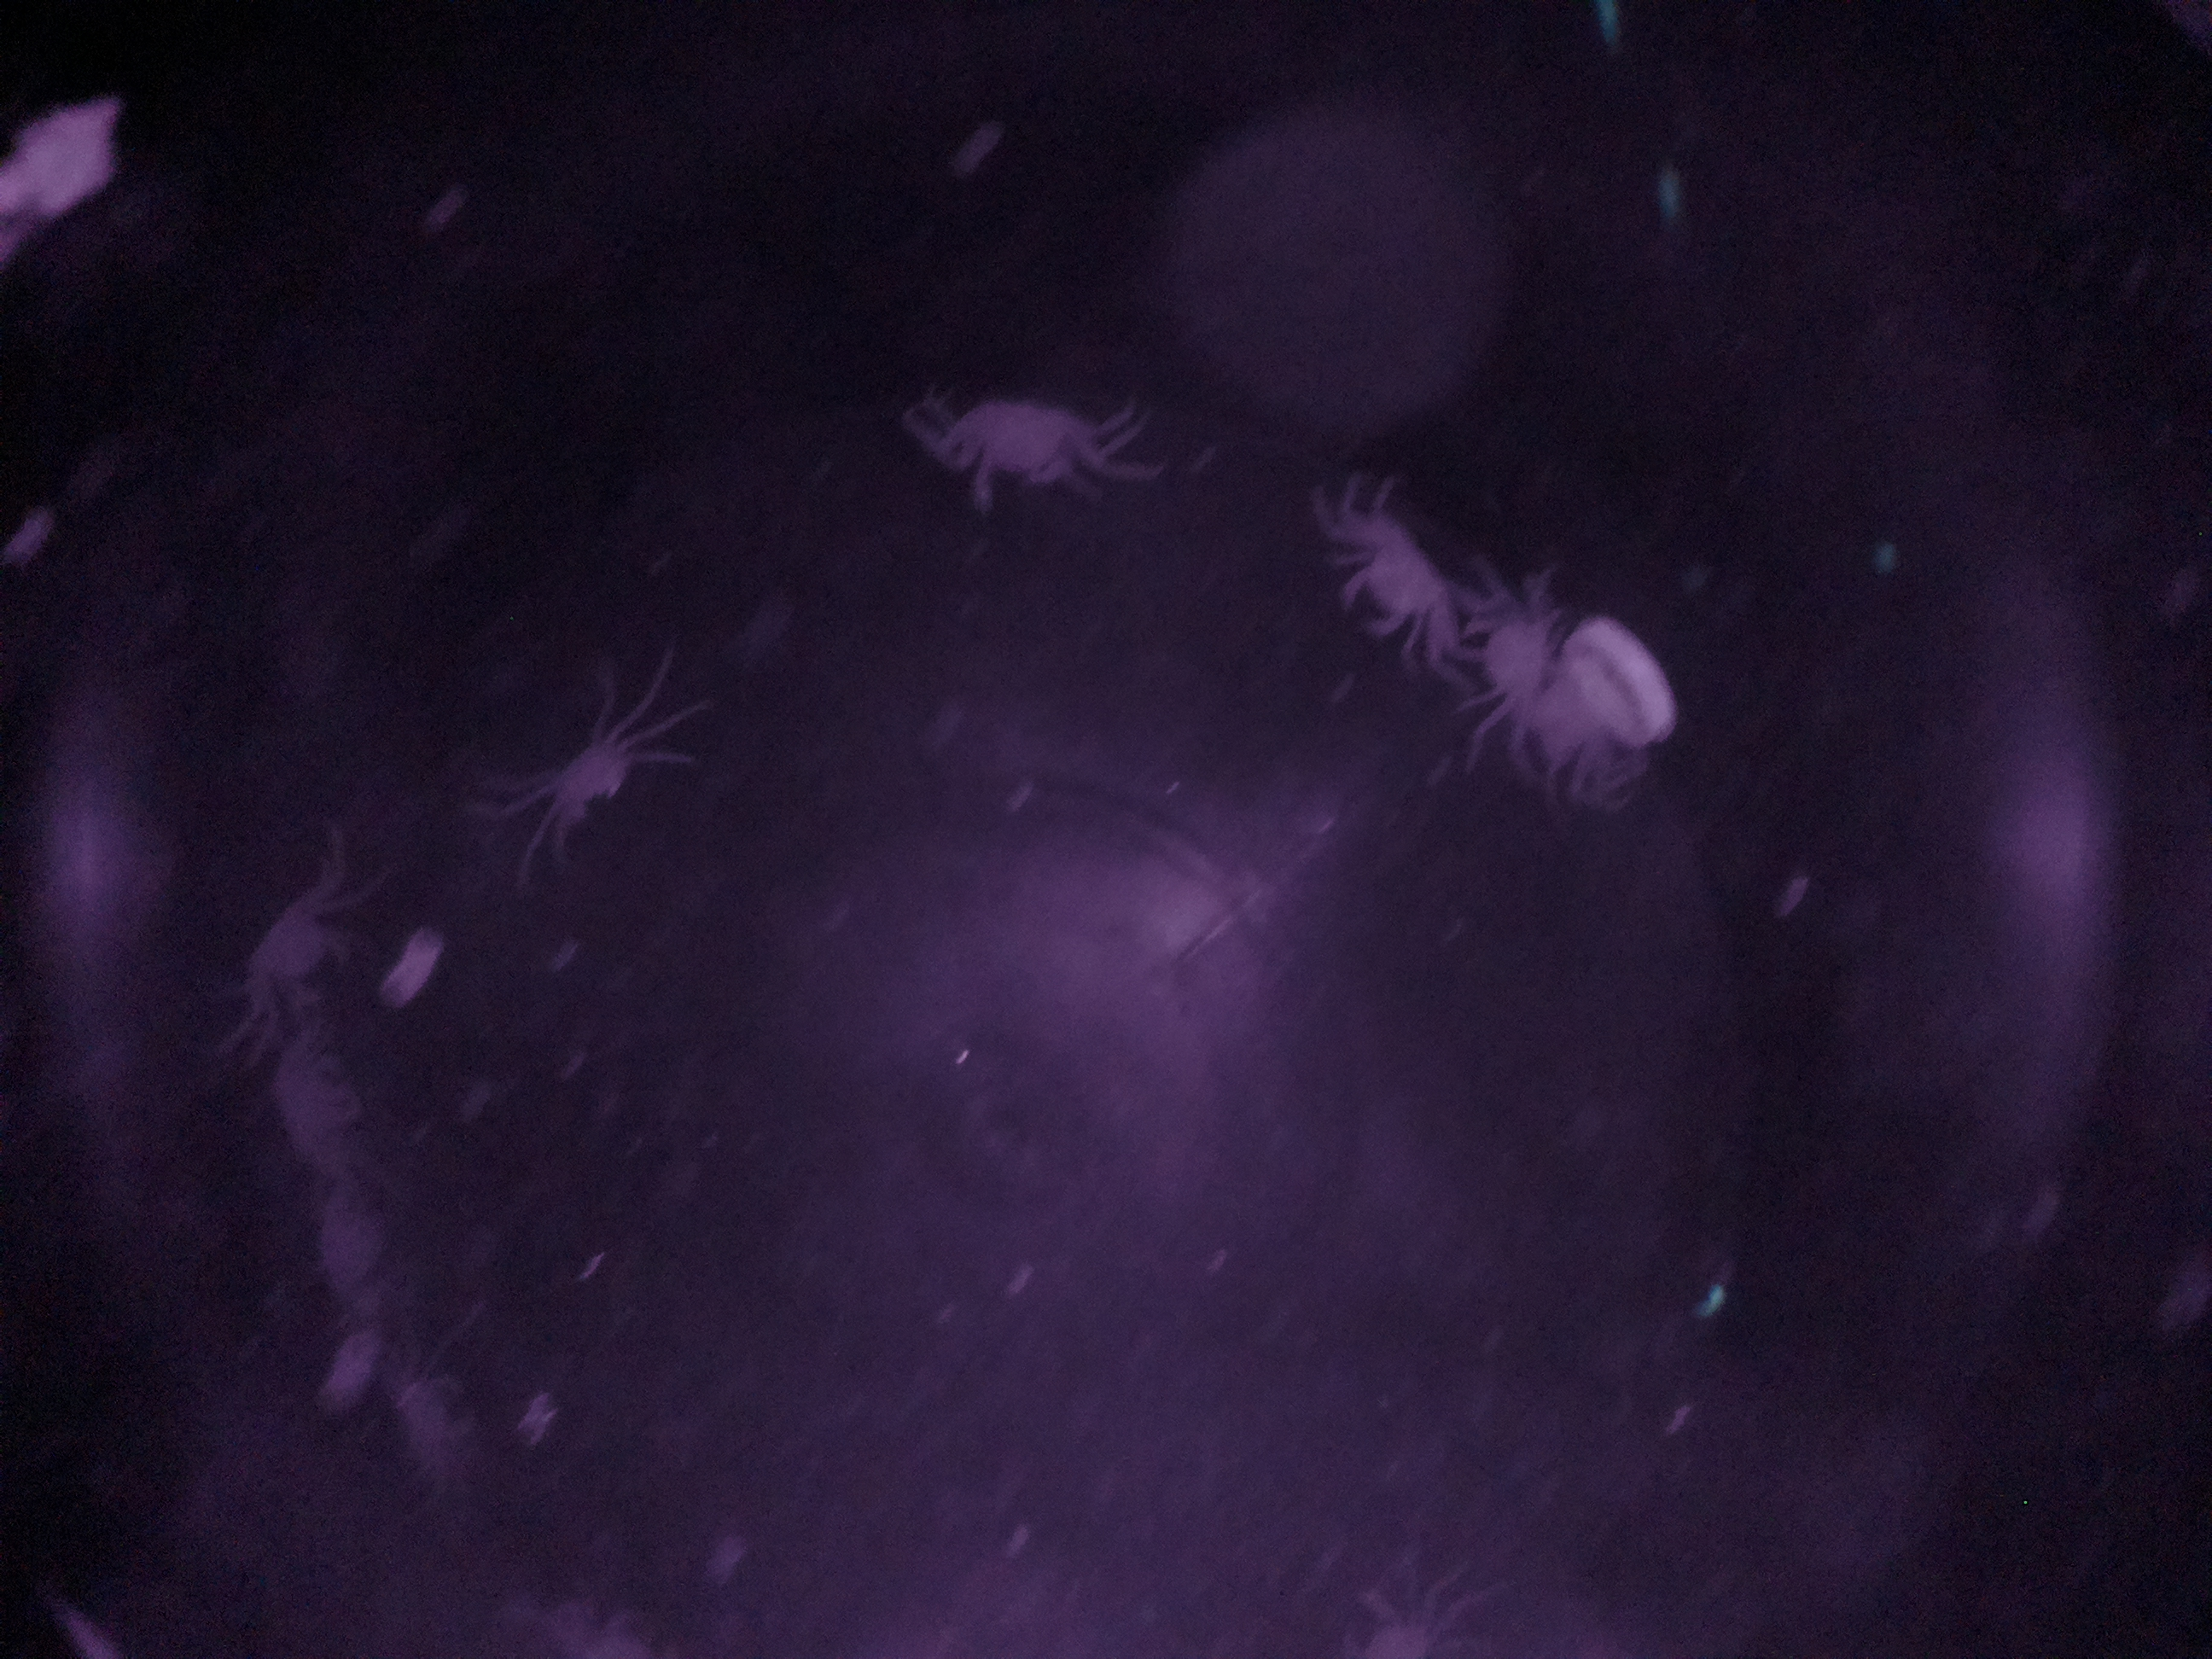Crab: (1310, 483, 1491, 664), (221, 849, 383, 1037)
